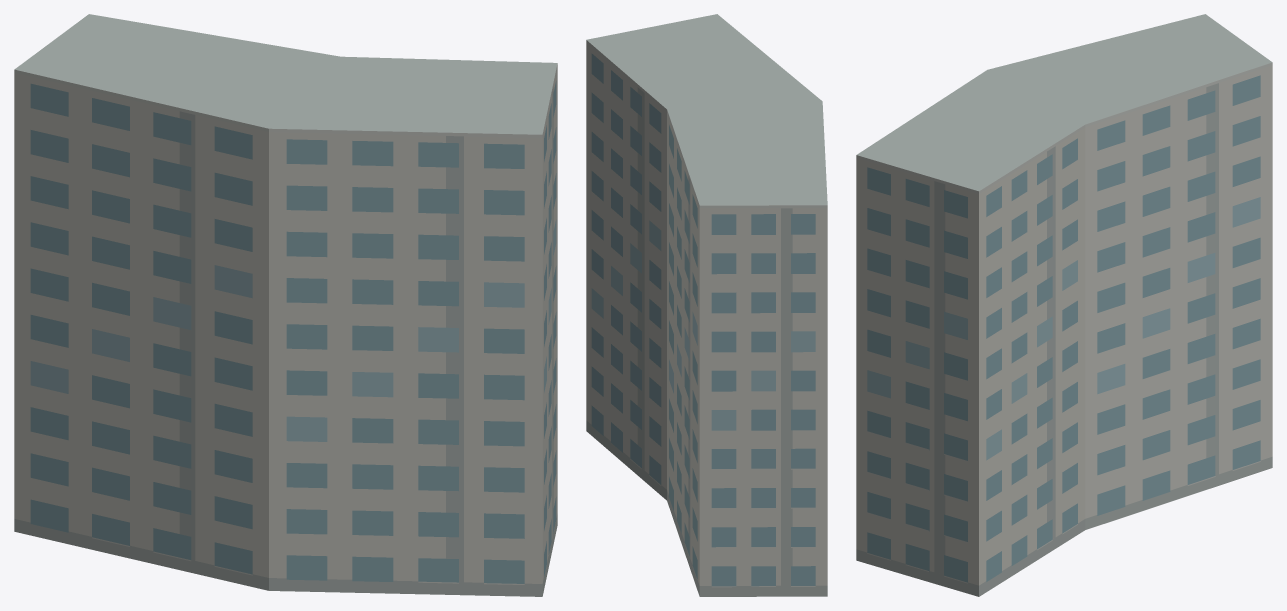
Rendered from residential-0b6cb04a-8bdb-4606-91b4-ff4ffd8bbe33.glb.
3 views of the same model, side by side, from view 1: azimuth 30°, elevation 25°; view 2: azimuth 150°, elevation 25°; view 3: azimuth 270°, elevation 25° (orthographic). The views are drawn at different scales.
Parts seen in each view (by area): view 1: residential-0b6cb04a-8bdb-4606-91b4-ff4ffd8bbe33.tmp; view 2: residential-0b6cb04a-8bdb-4606-91b4-ff4ffd8bbe33.tmp; view 3: residential-0b6cb04a-8bdb-4606-91b4-ff4ffd8bbe33.tmp.
Boxes of the visible parts, x1,y1,x2,y2 form: residential-0b6cb04a-8bdb-4606-91b4-ff4ffd8bbe33.tmp: (14,14,557,596); residential-0b6cb04a-8bdb-4606-91b4-ff4ffd8bbe33.tmp: (586,14,827,596); residential-0b6cb04a-8bdb-4606-91b4-ff4ffd8bbe33.tmp: (856,14,1272,596).
Size of the model in its own units: 31.9 by 34 by 31.64.
